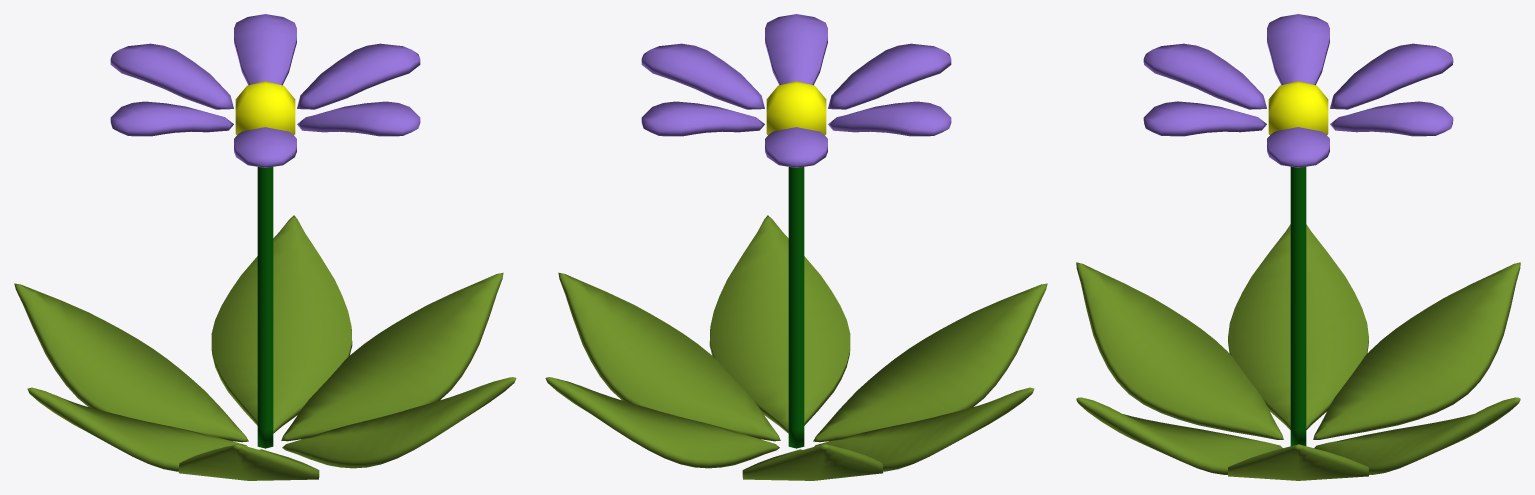
File: hepatica_0002.obj
The picture shows the model from 3 angles, left to right: view 1: azimuth 30°, elevation 25°; view 2: azimuth 150°, elevation 25°; view 3: azimuth 270°, elevation 25°; orthographic projection.
Visible parts, largest first — view 1: hepatica_0002; view 2: hepatica_0002; view 3: hepatica_0002.
Boxes of the visible parts, left/top/right/bottom form: hepatica_0002: left=14, top=14, right=516, bottom=480; hepatica_0002: left=545, top=14, right=1047, bottom=480; hepatica_0002: left=1076, top=14, right=1520, bottom=480.
Bounding box in the file's own units: 3.04 × 2.22 × 2.46.
1 material, 1 textured.
